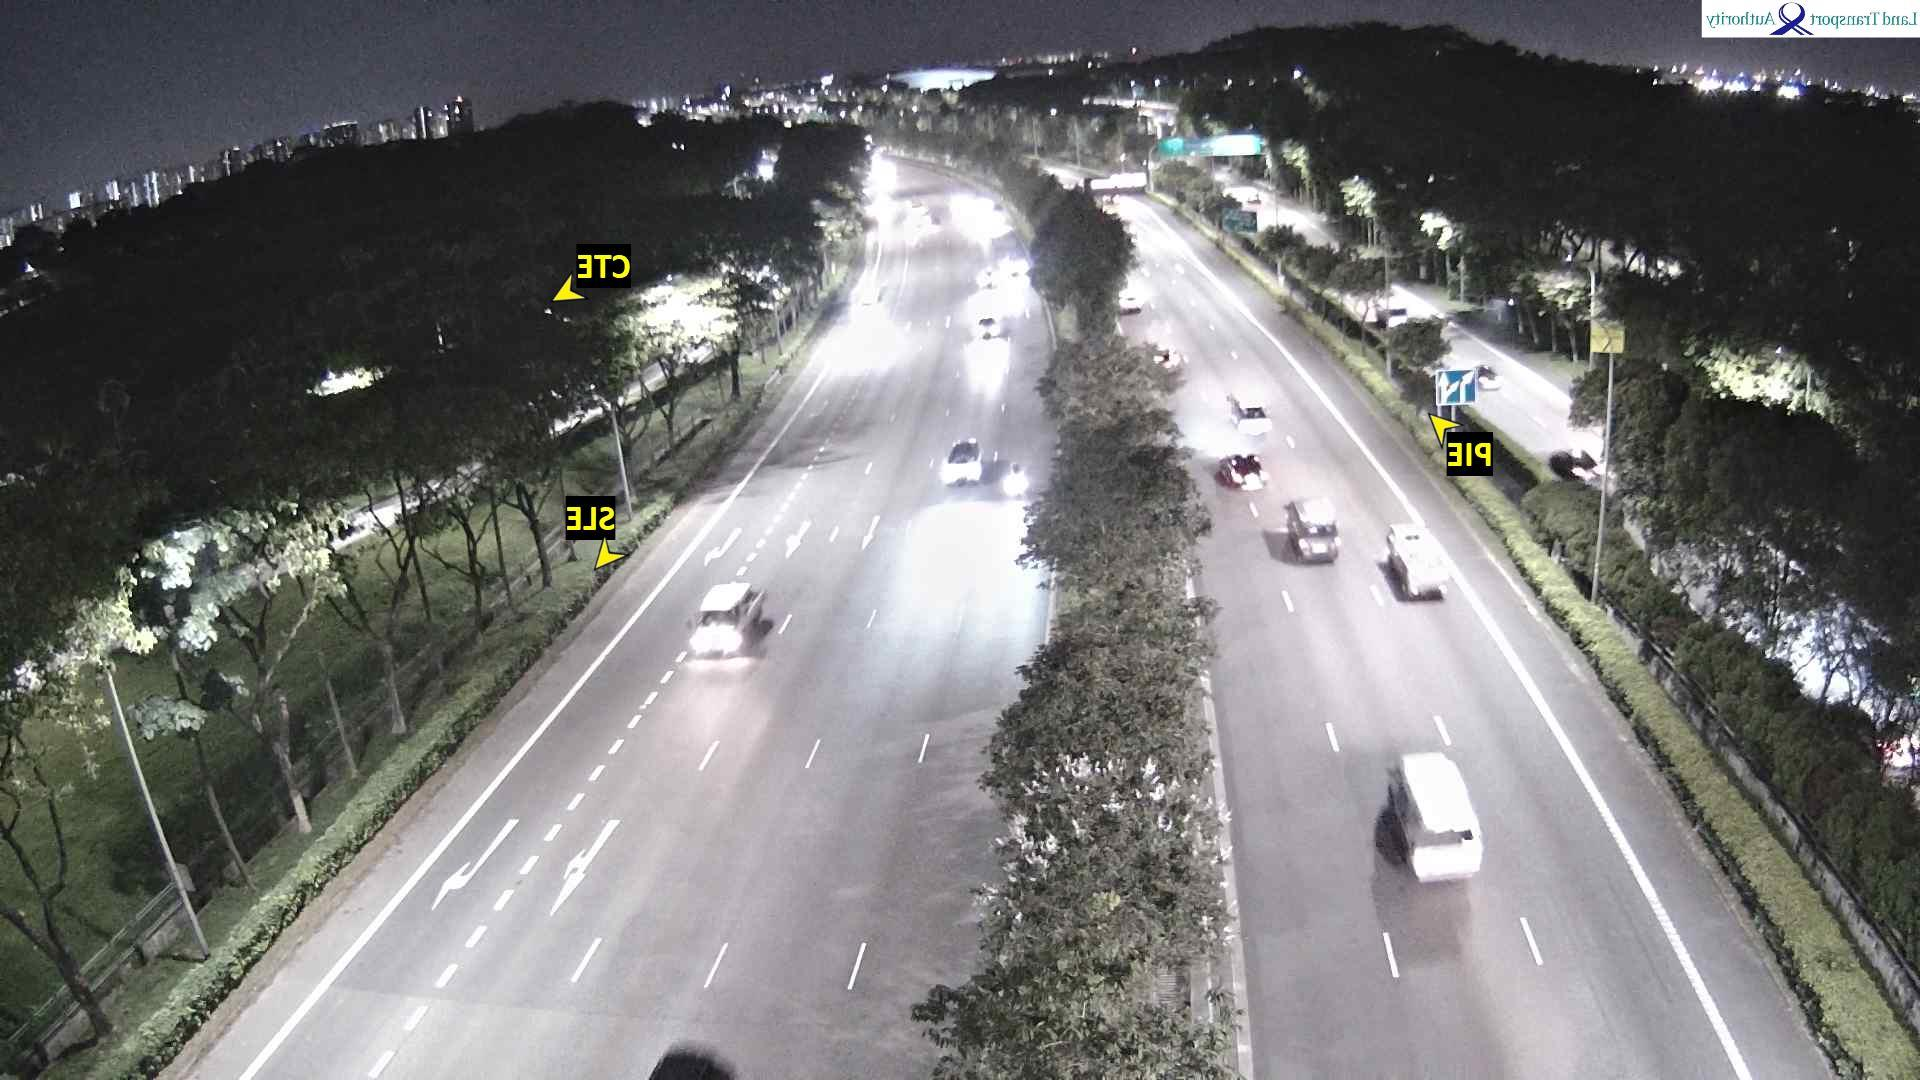incoming: (692, 607, 739, 665), (936, 449, 983, 485)
